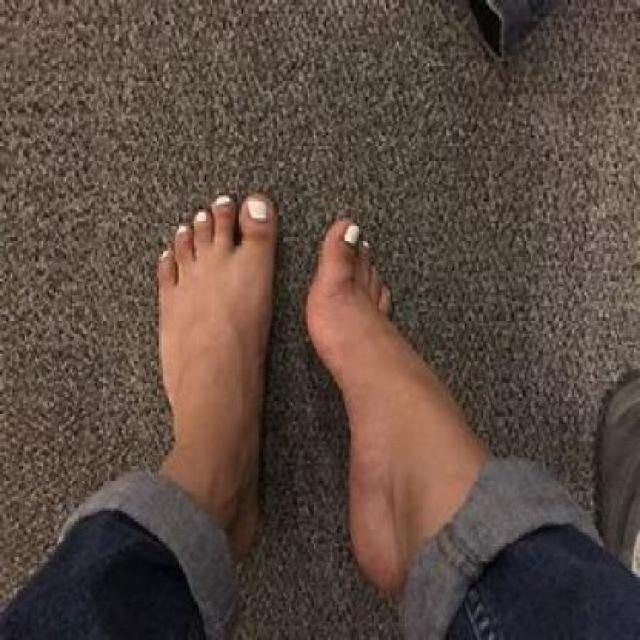No_Shoes: (105, 182, 281, 525), (306, 200, 406, 587)
